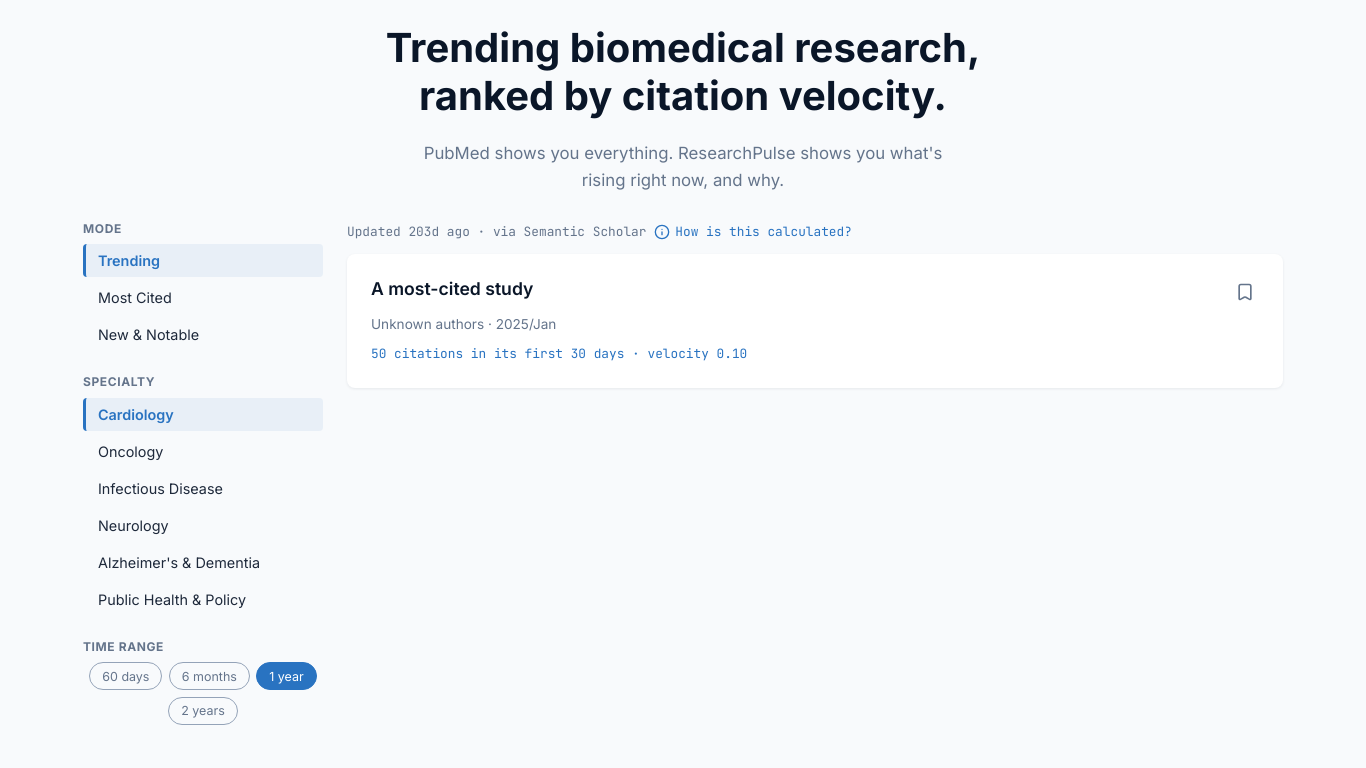
Test case: TrendingPage › omits the velocity figure from the citation stat line outside Trending mode
expect the heading "A most-cited study" is shown: met, box [371,278,533,299]
Click the radio button labelled "Most Cited": [203, 298] box [83,281,323,314]
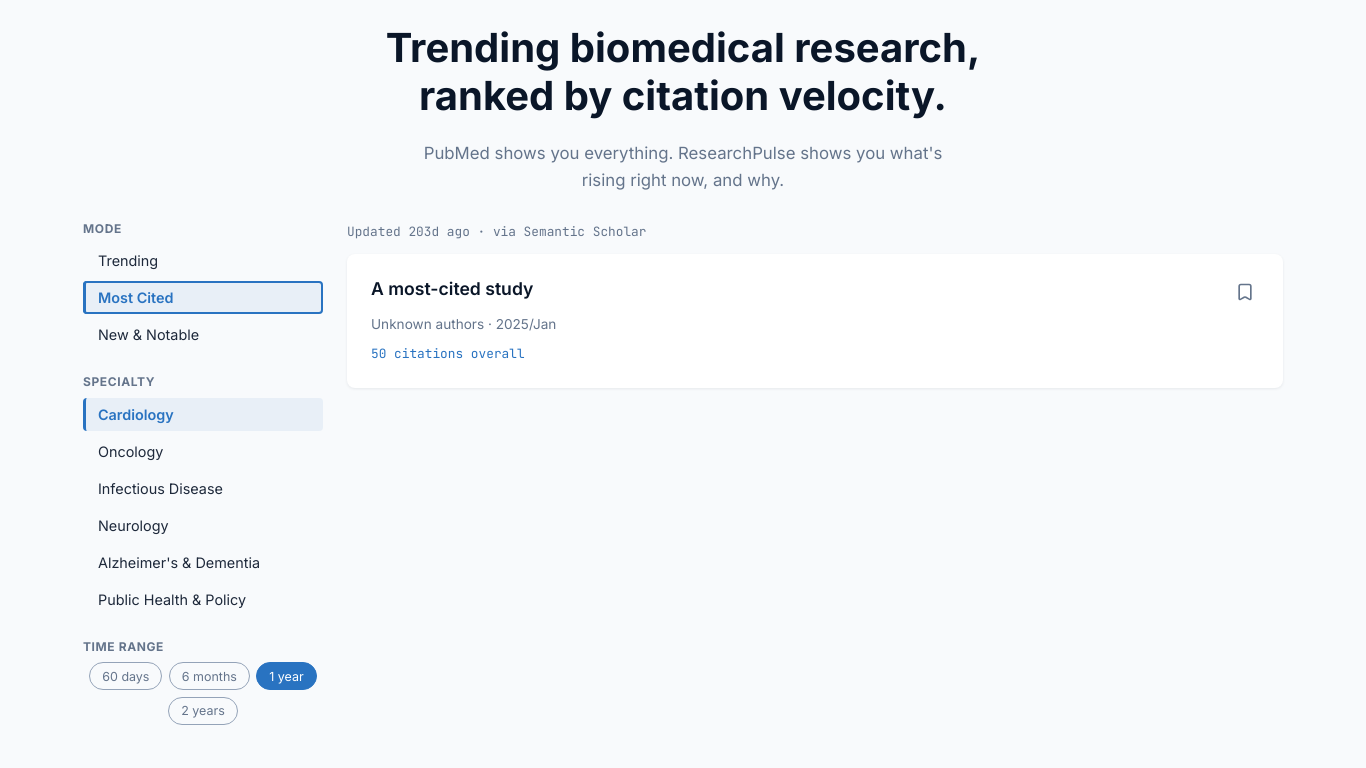
expect the heading "A most-cited study" is shown: met, box [371,278,533,299]
expect the text "50 citations overall" is shown: met, box [371,344,525,364]
